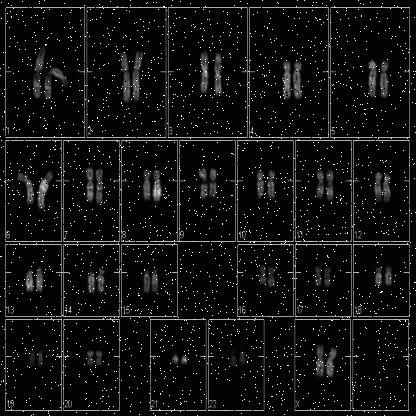1: (46, 60, 70, 102), (33, 40, 45, 102)
10: (266, 164, 278, 204), (254, 166, 266, 204)
11: (314, 166, 326, 202), (325, 166, 337, 202)
12: (372, 168, 384, 206), (384, 168, 395, 208)
13: (23, 265, 36, 299), (36, 266, 46, 300)
14: (85, 266, 97, 297), (97, 266, 109, 297)
15: (141, 266, 151, 297), (151, 266, 160, 296)
16: (258, 261, 268, 290), (268, 261, 276, 290)
17: (322, 262, 333, 293), (312, 262, 322, 292)
18: (384, 263, 393, 289), (374, 263, 382, 289)
19: (27, 346, 36, 367), (37, 346, 46, 367)
2: (117, 46, 131, 106), (132, 46, 146, 106)
20: (94, 347, 106, 370), (84, 347, 95, 370)
21: (170, 351, 180, 368), (179, 351, 189, 368)
22: (238, 346, 248, 372), (228, 346, 237, 372)
3: (200, 46, 212, 97), (213, 46, 225, 97)
4: (280, 53, 292, 102), (292, 54, 304, 103)
5: (366, 54, 378, 102), (378, 54, 390, 101)
6: (35, 166, 56, 210), (16, 169, 35, 208)
7: (84, 164, 93, 208), (95, 165, 104, 209)
8: (141, 166, 151, 207), (152, 167, 162, 208)
9: (196, 163, 209, 202), (209, 163, 219, 204)
X: (326, 341, 338, 382), (314, 342, 326, 382)
